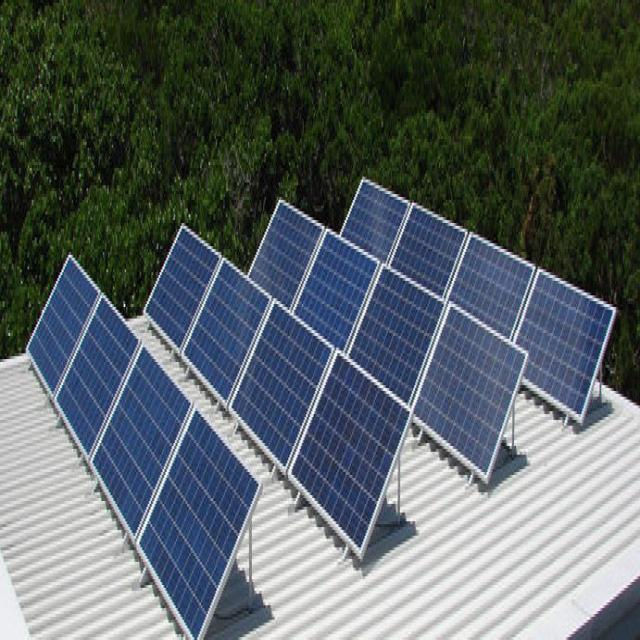clean-solar-panel: (28, 258, 260, 637), (146, 227, 410, 559), (252, 199, 526, 485), (340, 180, 616, 422)
